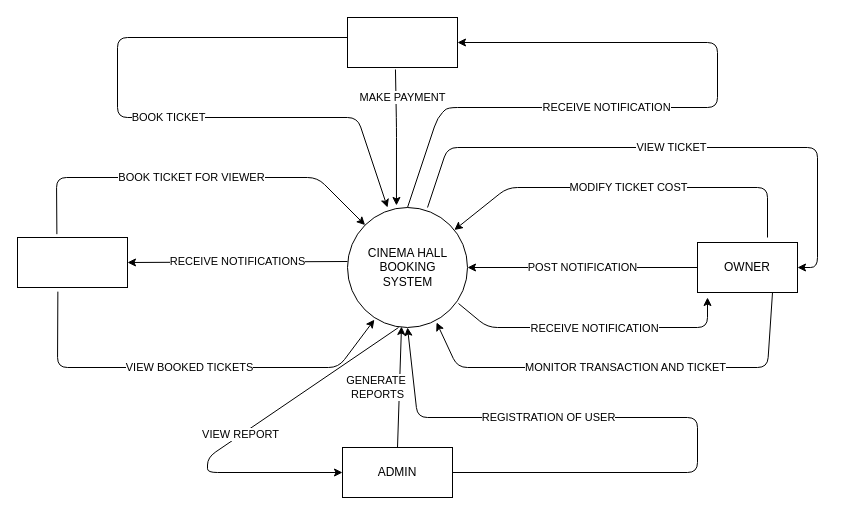
Image size: 843x515. Some labels were removed from this diagram. Here are the shapes that lost their labels. From the top down, the centre of each, then its label:
(x=402, y=42): CUSTOMER
(x=72, y=262): MANAGER
